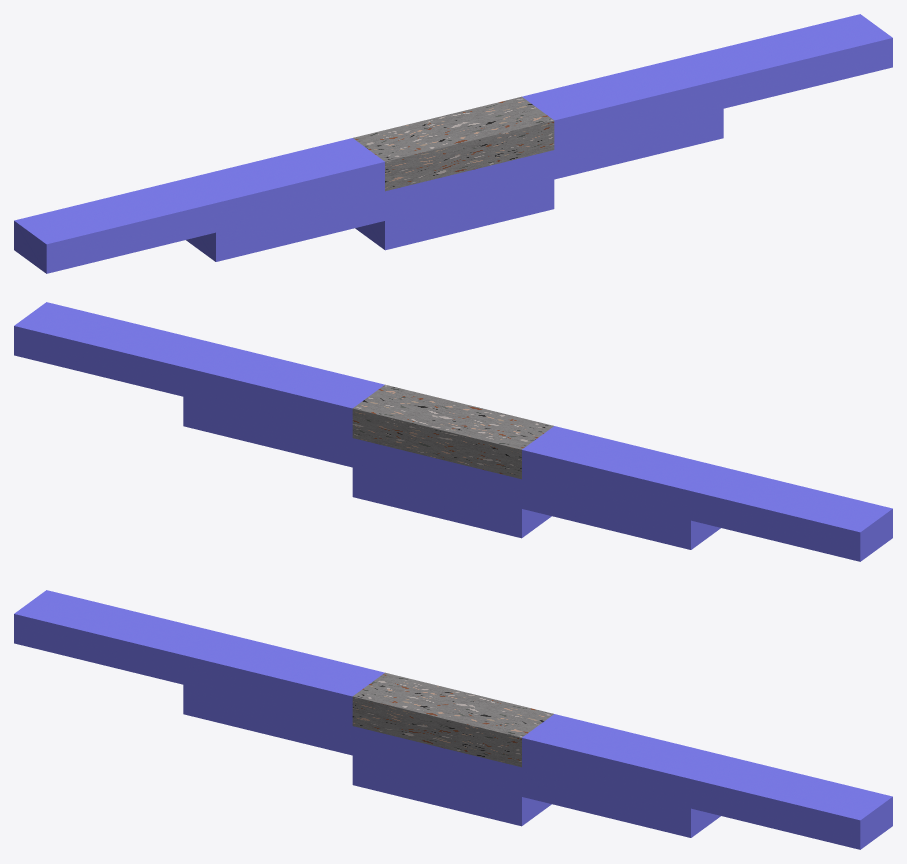
The model's file is testStage4.obj.
3 renders of one model, top to bottom at view 1: azimuth 30°, elevation 25°; view 2: azimuth 150°, elevation 25°; view 3: azimuth 330°, elevation 25°, orthographic.
Visible parts, largest first — view 1: Cube.004, Cube, Cube.003, Cube.002, Cube.001, Cube.008, Cube.005, Cube.006, Cube.007; view 2: Cube.004, Cube, Cube.003, Cube.002, Cube.001, Cube.008, Cube.005, Cube.006, Cube.007; view 3: Cube.003, Cube, Cube.004, Cube.001, Cube.002, Cube.008, Cube.006, Cube.005, Cube.007.
Boxes of the visible parts, x1=… form: Cube.004: x1=14, y1=179, x2=215, y2=273; Cube: x1=353, y1=96, x2=554, y2=191; Cube.003: x1=691, y1=14, x2=892, y2=108; Cube.002: x1=522, y1=55, x2=723, y2=149; Cube.001: x1=183, y1=138, x2=384, y2=232; Cube.008: x1=355, y1=179, x2=554, y2=250; Cube.005: x1=186, y1=191, x2=384, y2=261; Cube.006: x1=554, y1=109, x2=723, y2=179; Cube.007: x1=385, y1=150, x2=554, y2=220; Cube.004: x1=691, y1=467, x2=892, y2=561; Cube: x1=352, y1=384, x2=553, y2=479; Cube.003: x1=14, y1=302, x2=215, y2=396; Cube.002: x1=183, y1=343, x2=384, y2=437; Cube.001: x1=522, y1=426, x2=723, y2=520; Cube.008: x1=352, y1=467, x2=551, y2=538; Cube.005: x1=522, y1=479, x2=720, y2=549; Cube.006: x1=183, y1=397, x2=352, y2=467; Cube.007: x1=352, y1=438, x2=521, y2=508; Cube.003: x1=691, y1=755, x2=892, y2=849; Cube: x1=352, y1=672, x2=553, y2=767; Cube.004: x1=14, y1=590, x2=215, y2=684; Cube.001: x1=183, y1=631, x2=384, y2=725; Cube.002: x1=522, y1=714, x2=723, y2=808; Cube.008: x1=352, y1=755, x2=551, y2=826; Cube.006: x1=522, y1=767, x2=720, y2=837; Cube.005: x1=183, y1=685, x2=352, y2=755; Cube.007: x1=352, y1=726, x2=521, y2=796.
Bounding box in the file's own units: 30 × 3 × 2.
Materials: 2 (2 with a texture image).
